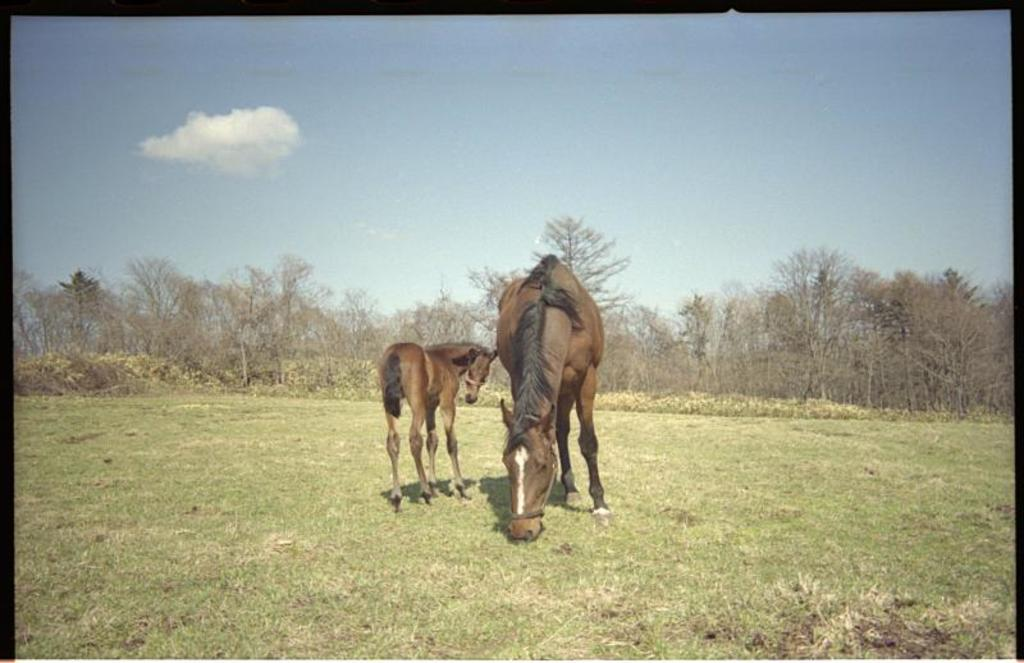horse: (495, 250, 611, 542), (380, 340, 495, 514)
